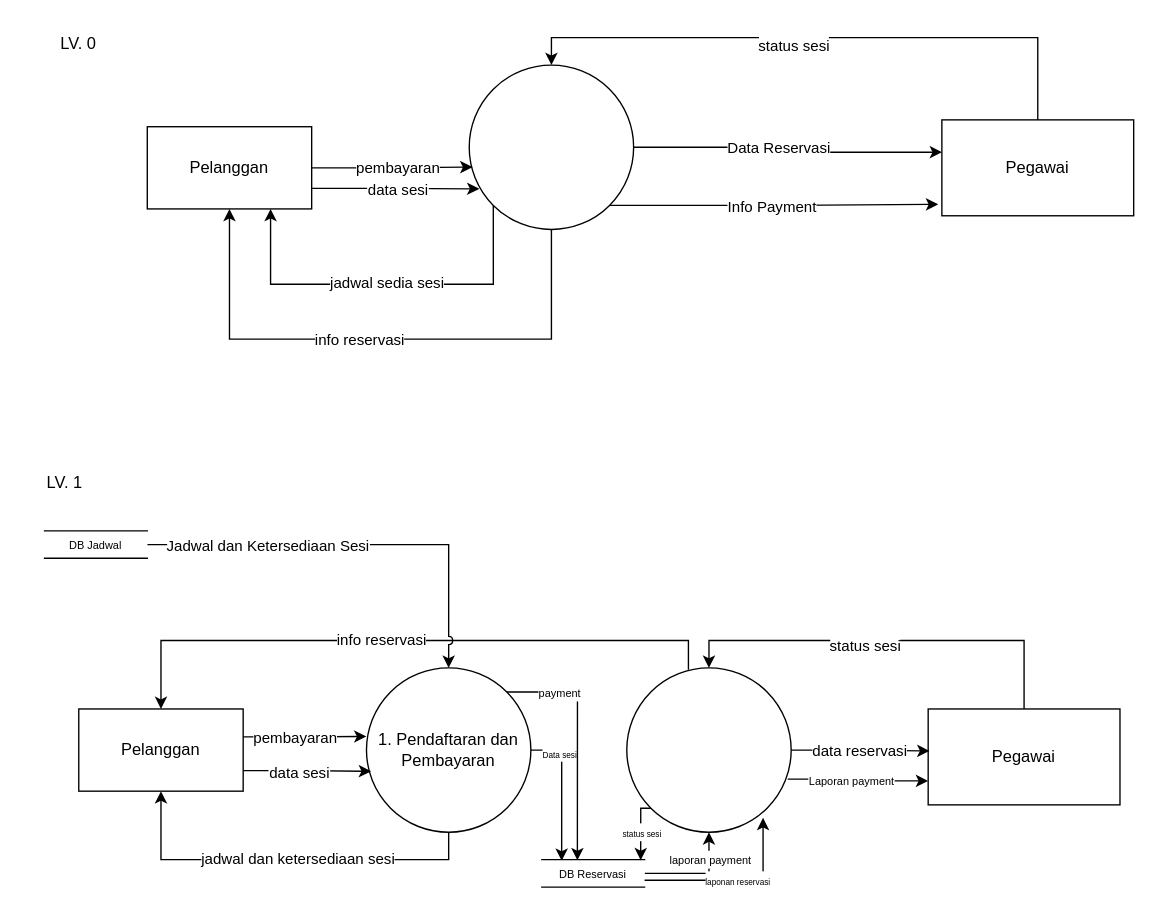
The diagram is 1158 pixels wide and 915 high, and some of its shapes have lost their labels. The centre of each missing label's shape, as x and y in pixels:
2. Kelola Reservasi: (708,749)
Sistem Reservasi Photobooth 'Flashbox': (551,146)
